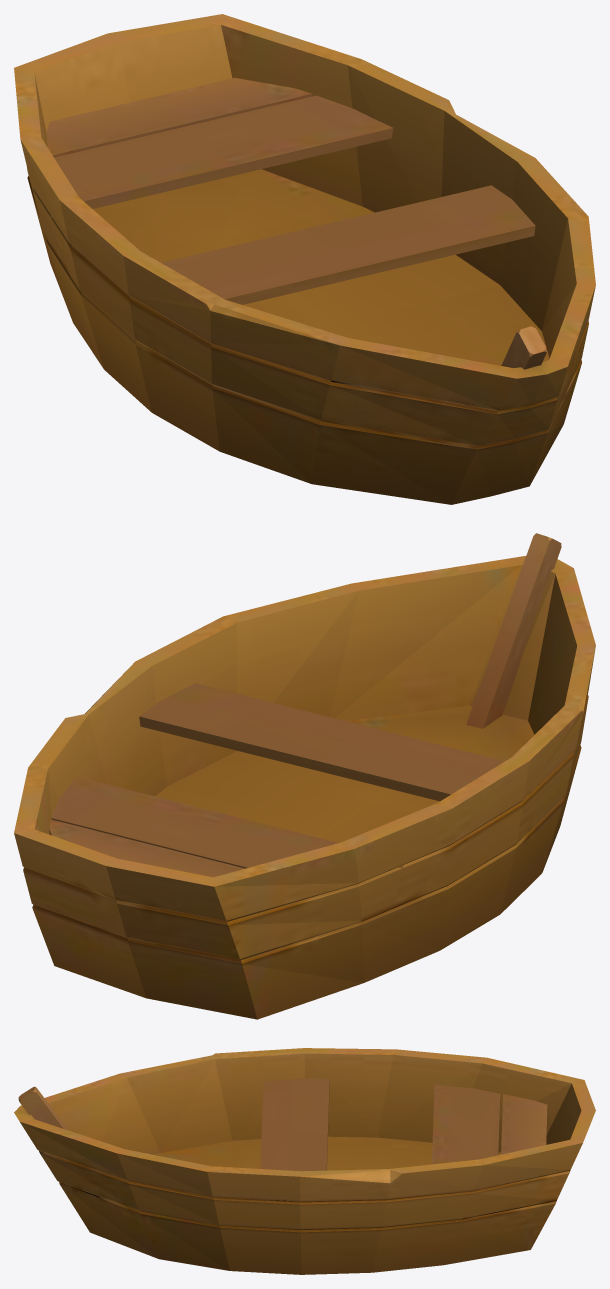
The model's file is rowboat_light.glb.
3 views of the same model, one above another, from view 1: azimuth 30°, elevation 25°; view 2: azimuth 150°, elevation 25°; view 3: azimuth 270°, elevation 25° (orthographic). The views are drawn at different scales.
Parts seen in each view (by area): view 1: rowboat_light; view 2: rowboat_light; view 3: rowboat_light.
Part boxes in pixels (x1,y1,x2,y2): rowboat_light: [14, 14, 595, 504]; rowboat_light: [14, 533, 595, 1019]; rowboat_light: [14, 1048, 595, 1274].
Size of the model in its own units: 2.31 by 1.09 by 4.4.
Materials: 1 (1 with a texture image).
